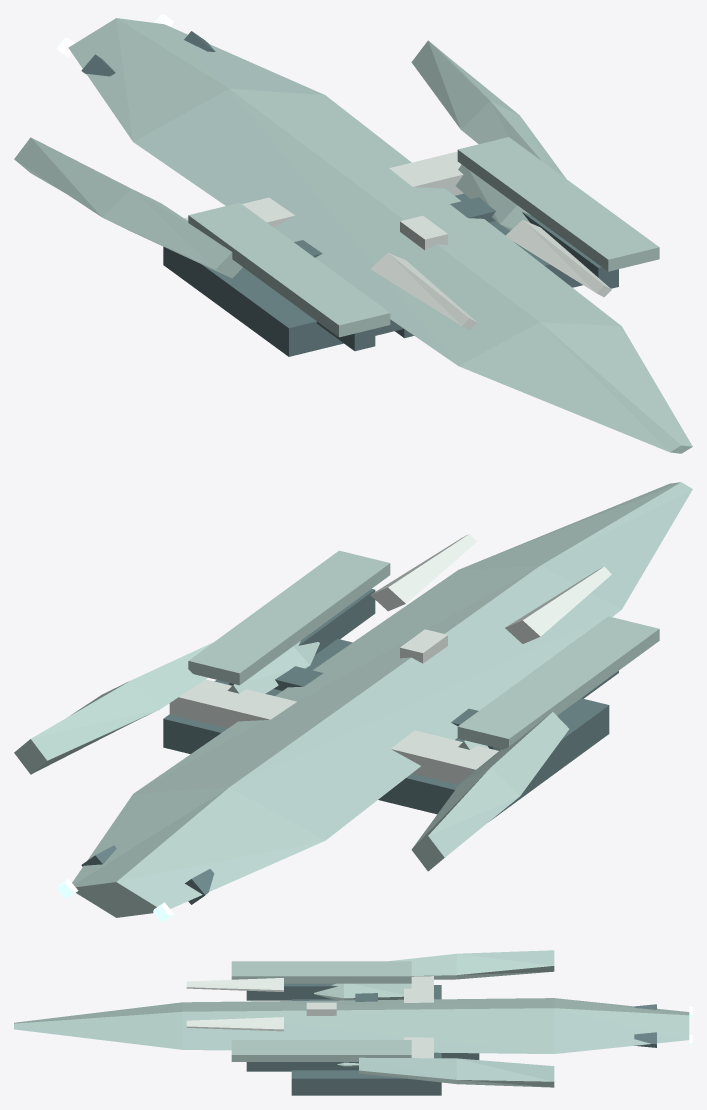
3 views of the same model, one above another, from view 1: azimuth 30°, elevation 25°; view 2: azimuth 150°, elevation 25°; view 3: azimuth 270°, elevation 25° (orthographic). The views are drawn at different scales.
Bounding box in the file's own units: 7.53 × 1.7 × 17.2.
